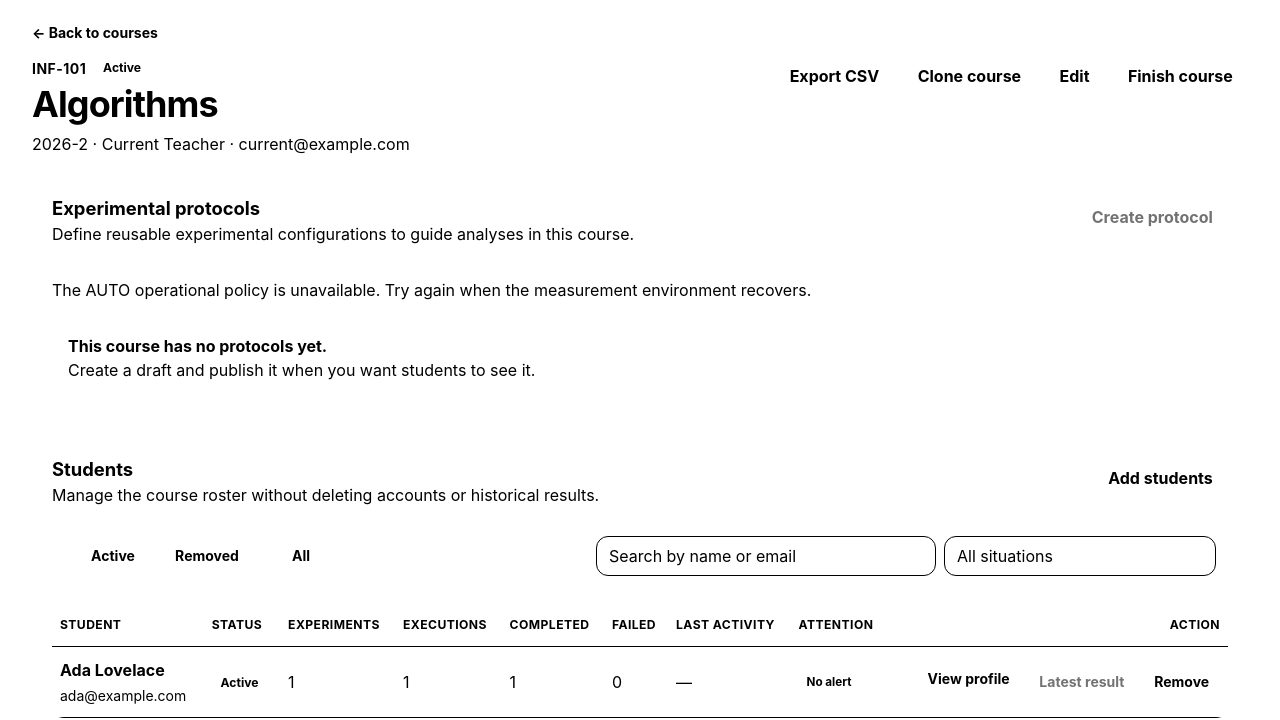
Test case: TeacherCourseDetail Iteration 3 contracts › keeps removal failures inside the confirmation modal without native alerts
Click the button "Remove" at (1182, 682), box [1143,665,1220,699]
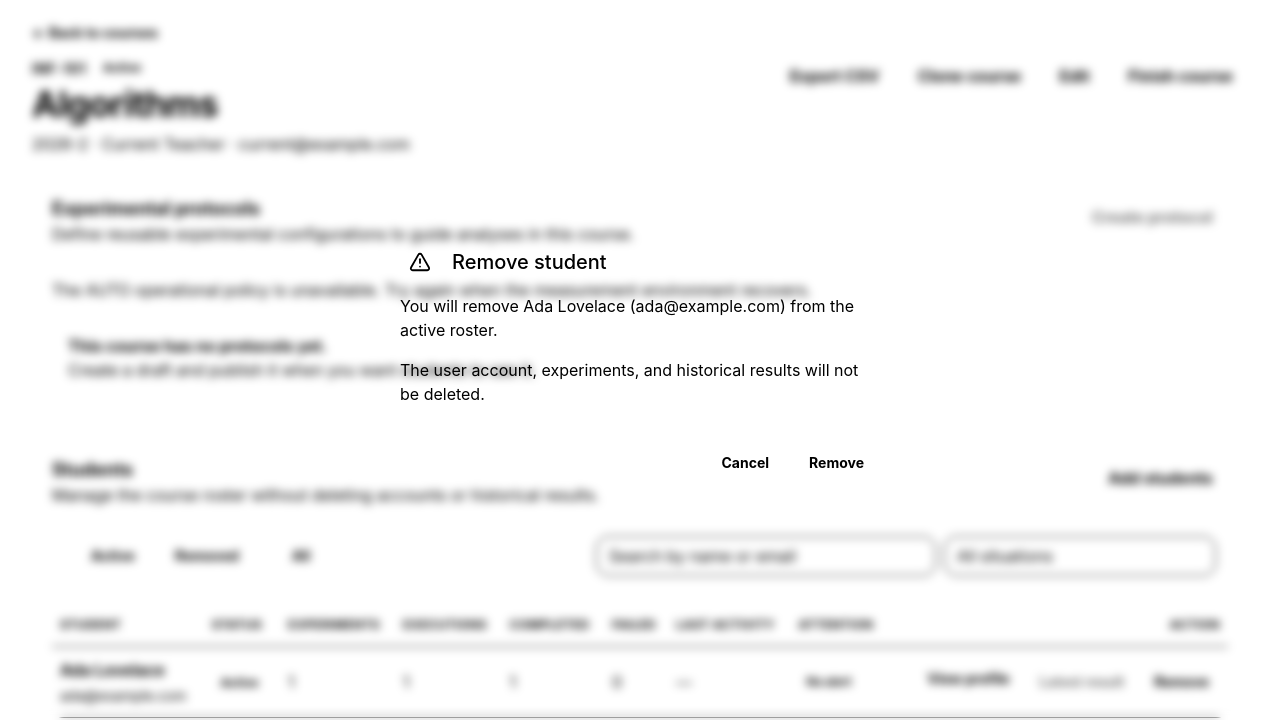
Click the button "Remove" at (836, 462), box [793,442,880,482]
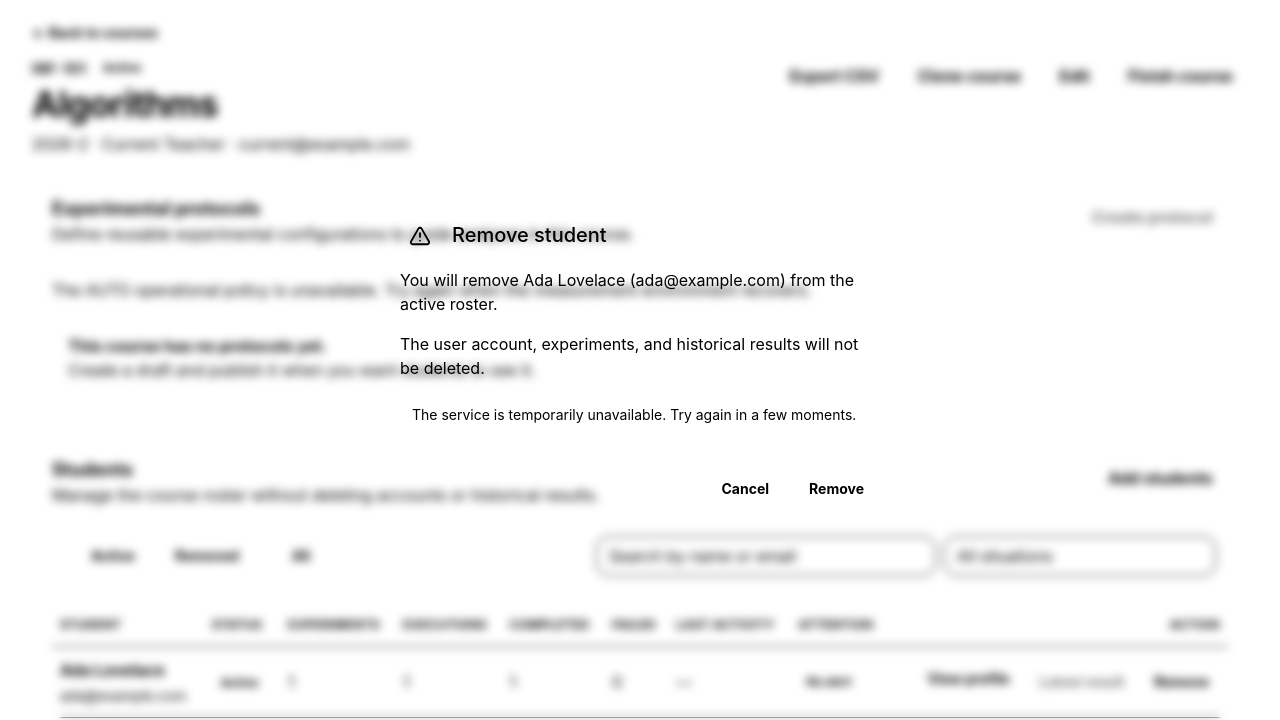
Expected: the message reads "The service is temporarily unavailable. Try again in a few moments.", [412,406,856,422]
